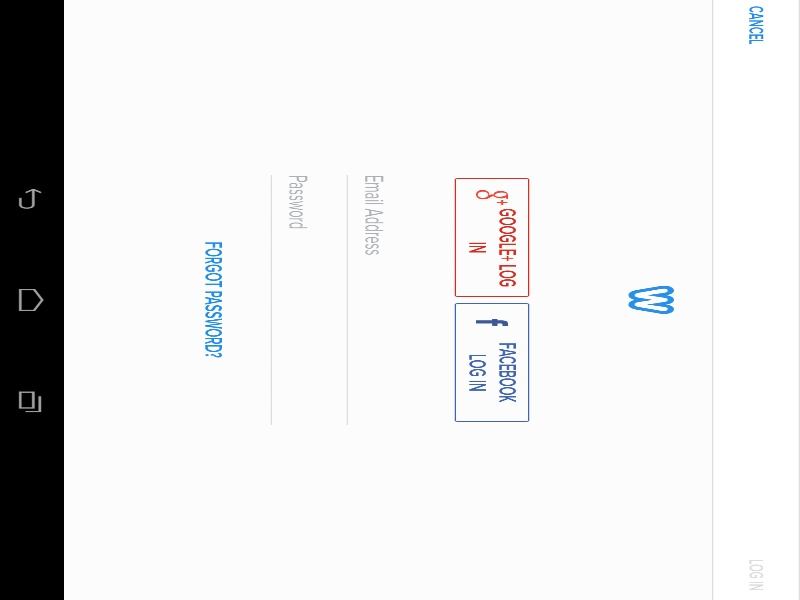Button: (380, 126, 633, 161), (10, 3, 96, 37)
